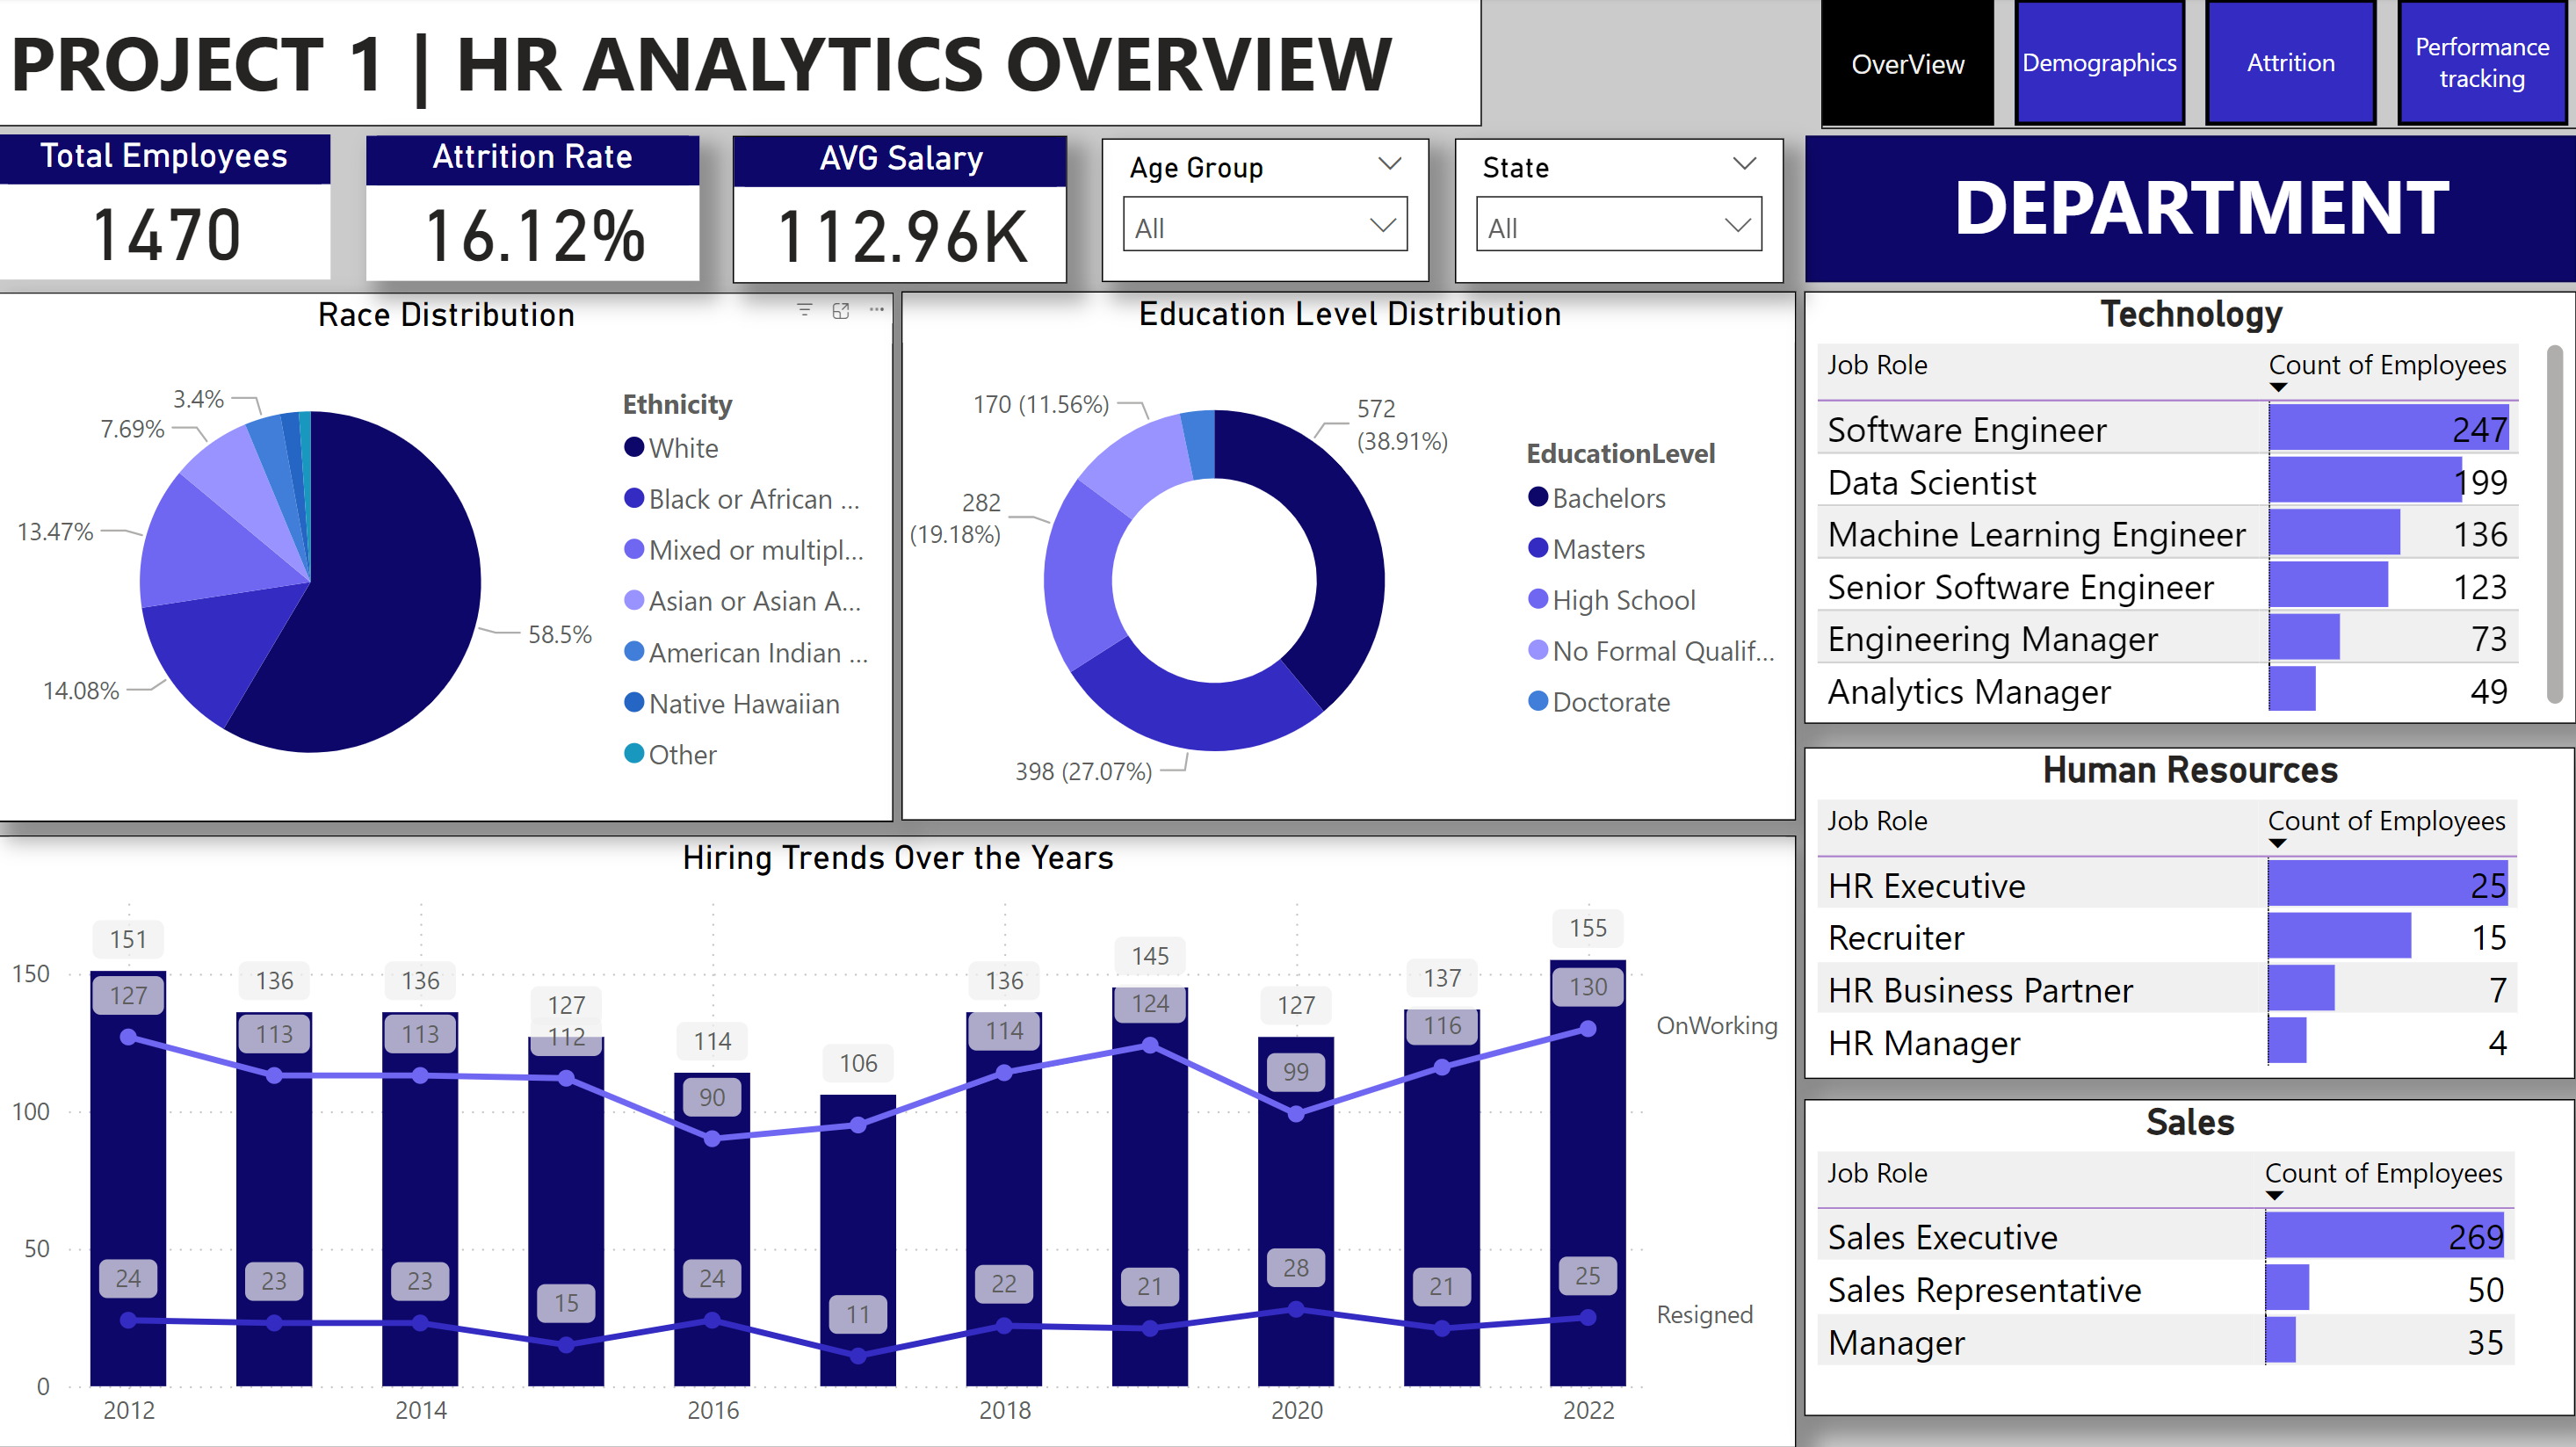

The page's visual inventory and layout, read from the dashboard file:
{"tool":"powerbi","page":{"name":"OverView","canvas":[1280,720],"ordinal":0},"visuals":[{"type":"lineClusteredColumnComboChart","title":"Hiring Trends Over the Years","fields":{"Category":["Employee.HireDate.Variation.Date Hierarchy.Year"],"Y":["CountNonNull(Employee.EmployeeID)"],"Y2":["calculate.Resigned","calculate.CountLayoff"]},"box":[0,415.7,892.9,304.3],"z":0},{"type":"pieChart","title":"Race Distribution","fields":{"Category":["Employee.Ethnicity"],"Y":["CountNonNull(Employee.Ethnicity)"]},"box":[0,146.3,444.4,263],"z":1000},{"type":"donutChart","title":"Education Level Distribution","fields":{"Y":["CountNonNull(Employee.Education)"],"Category":["EducationLevel.EducationLevel"]},"box":[448.6,145.7,444.3,262.9],"z":2000},{"type":"tableEx","title":"Technology","fields":{"Values":["Employee.JobRole","Employee.EmployeeID"]},"box":[896.9,146,383.5,214.4],"z":3000},{"type":"textbox","box":[0,0,736.4,63.7],"z":5000},{"type":"tableEx","title":"Human Resources","fields":{"Values":["Employee.JobRole","Employee.EmployeeID"]},"box":[896.9,372,382.4,164.5],"z":6000},{"type":"tableEx","title":"Sales","fields":{"Values":["Employee.JobRole","Employee.EmployeeID"]},"box":[896.9,546.9,382.4,157.6],"z":7000},{"type":"card","title":"Total Employees","fields":{"Values":["calculate.Total_Employee"]},"box":[0,67.7,165.4,72.3],"z":8000},{"type":"slicer","fields":{"Values":["Employee.AgeGroup"]},"box":[548.2,69.9,162.7,71.1],"z":9000},{"type":"card","title":"Attrition Rate","fields":{"Values":["calculate.Attrition_Rate"]},"box":[183.1,68.7,165.1,72.3],"z":10000},{"type":"card","title":"AVG Salary","fields":{"Values":["calculate.AVG Salary"]},"box":[365.1,68.7,166.3,73.5],"z":11000},{"type":"pageNavigator","box":[905,0,375,65],"z":12000},{"type":"shape","box":[897.1,68.6,382.9,72.9],"z":13000},{"type":"textbox","box":[943.3,71.7,300,70],"z":14000},{"type":"slicer","fields":{"Values":["Employee.State"]},"box":[723.3,70,163.5,71.9],"z":15000}]}

Visuals, with their boxes in screenshot pixels (x1, y1, x2, y2), scaled from the page's 1280x720 canvas onto the 2576x1447 screenshot:
"Hiring Trends Over the Years" lineClusteredColumnComboChart: x1=0, y1=836, x2=1797, y2=1446
"Race Distribution" pieChart: x1=0, y1=294, x2=894, y2=822
"Education Level Distribution" donutChart: x1=903, y1=293, x2=1797, y2=821
"Technology" tableEx: x1=1805, y1=293, x2=2575, y2=724
textbox: x1=0, y1=0, x2=1482, y2=128
"Human Resources" tableEx: x1=1805, y1=748, x2=2574, y2=1078
"Sales" tableEx: x1=1805, y1=1099, x2=2574, y2=1416
"Total Employees" card: x1=0, y1=136, x2=333, y2=281
slicer - Employee.AgeGroup: x1=1103, y1=141, x2=1430, y2=284
"Attrition Rate" card: x1=368, y1=138, x2=701, y2=284
"AVG Salary" card: x1=734, y1=138, x2=1069, y2=286
pageNavigator: x1=1821, y1=0, x2=2575, y2=131
shape: x1=1805, y1=138, x2=2575, y2=285
textbox: x1=1899, y1=144, x2=2502, y2=285
slicer - Employee.State: x1=1456, y1=141, x2=1784, y2=286
